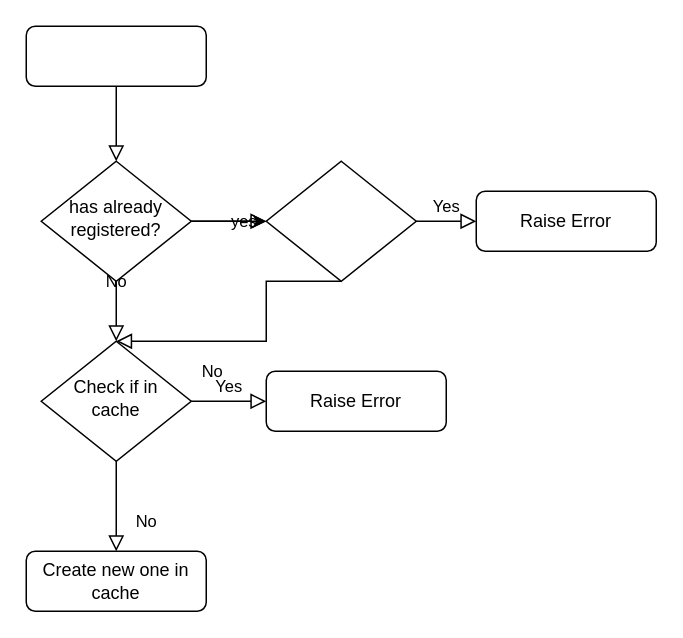
Image size: 683x638. Some labels were removed from this diagram. Each missing label, with the centre of its shape:
Is rejected?: pixel 340 220
Register a new vendor: pixel 115 55
